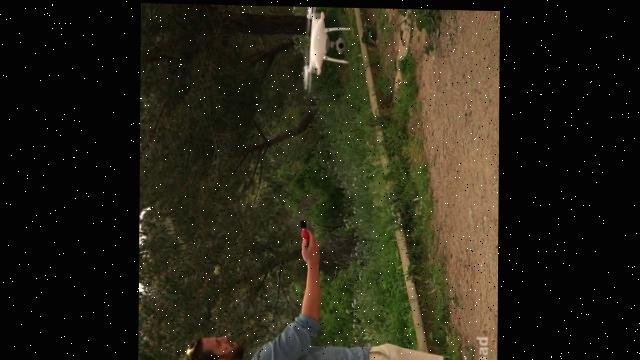drone: (301, 5, 346, 91)
